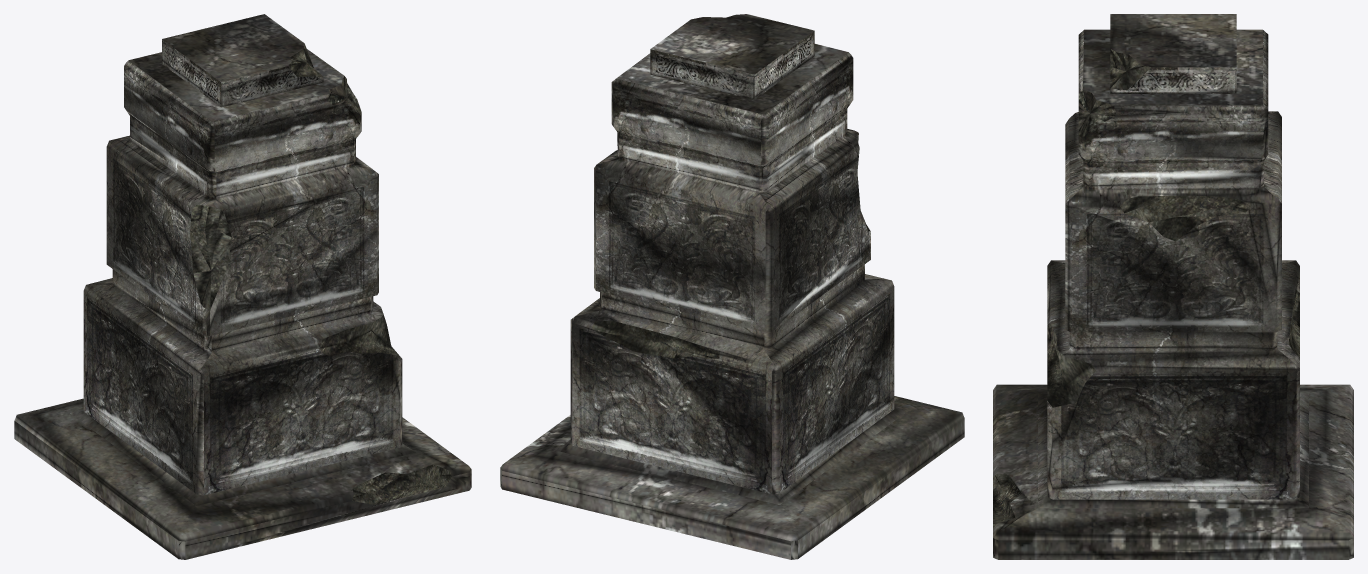
3 views of the same model, side by side, from view 1: azimuth 30°, elevation 25°; view 2: azimuth 150°, elevation 25°; view 3: azimuth 270°, elevation 25° (orthographic). The views are drawn at different scales.
Parts seen in each view (by area): view 1: mesh0, mesh1; view 2: mesh0, mesh1; view 3: mesh0, mesh1.
Boxes of the visible parts, bbox=[...] form: mesh0: bbox=[14, 14, 471, 559]; mesh1: bbox=[190, 44, 451, 504]; mesh0: bbox=[500, 14, 964, 559]; mesh1: bbox=[592, 15, 870, 358]; mesh0: bbox=[993, 14, 1353, 559]; mesh1: bbox=[993, 49, 1299, 528].
Size of the model in its own units: 2 by 2.71 by 2.
